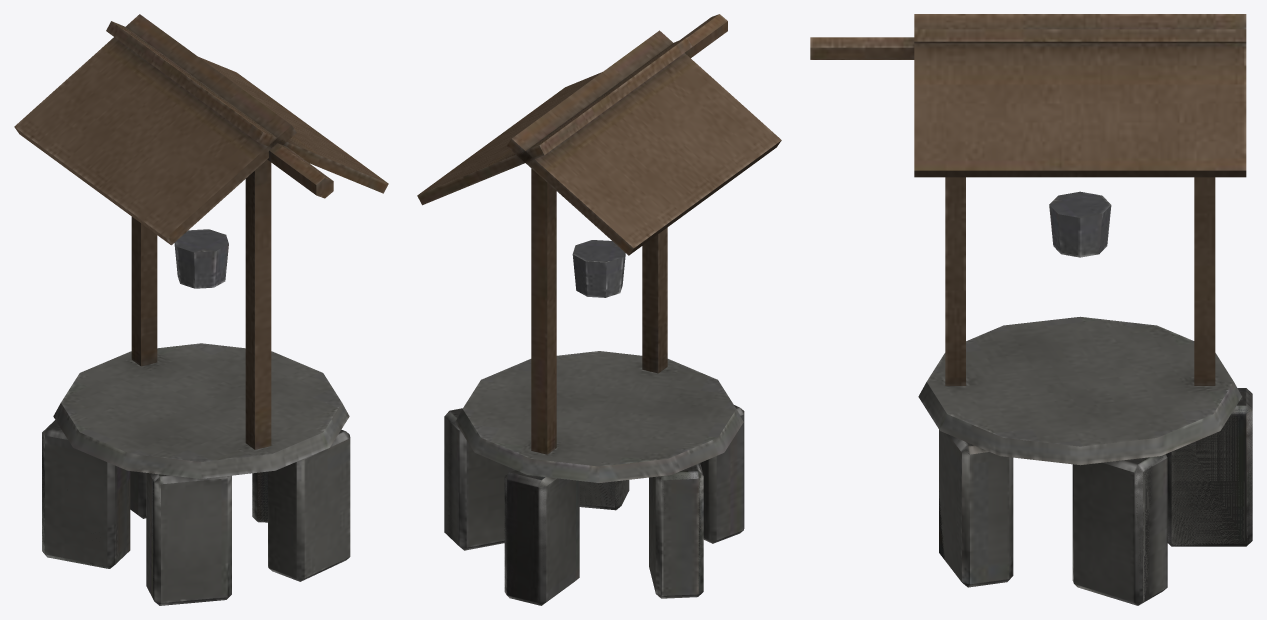
The model's file is poco.glb.
The picture shows the model from 3 angles, left to right: view 1: azimuth 30°, elevation 25°; view 2: azimuth 150°, elevation 25°; view 3: azimuth 270°, elevation 25°; orthographic projection. The views are drawn at different scales.
Visible parts, largest first — view 1: poco; view 2: poco; view 3: poco.
Part boxes in pixels (bbox=[...]): poco: bbox=[14, 14, 388, 605]; poco: bbox=[417, 14, 781, 605]; poco: bbox=[810, 14, 1252, 605].
Bounding box in the file's own units: 1.6 × 2.74 × 2.13.
1 material, 1 textured.
